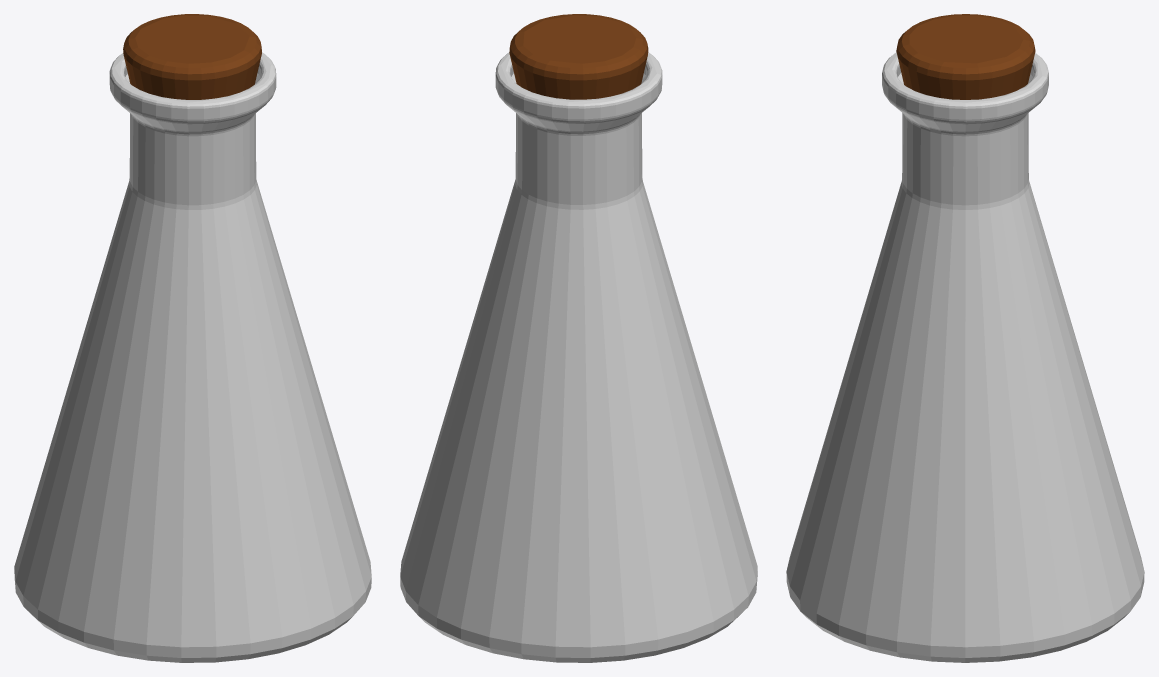
Rendered from mavi_sise_finito.fbx.
The picture shows the model from 3 angles, left to right: view 1: azimuth 30°, elevation 25°; view 2: azimuth 150°, elevation 25°; view 3: azimuth 270°, elevation 25°; orthographic projection.
Parts seen in each view (by area): view 1: mavi_sise_cam, mavi_sise_kapak; view 2: mavi_sise_cam, mavi_sise_kapak; view 3: mavi_sise_cam, mavi_sise_kapak.
Part boxes in pixels (x1=…): mavi_sise_cam: x1=14, y1=52, x2=371, y2=662; mavi_sise_kapak: x1=123, y1=14, x2=261, y2=99; mavi_sise_cam: x1=400, y1=52, x2=757, y2=662; mavi_sise_kapak: x1=509, y1=14, x2=648, y2=99; mavi_sise_cam: x1=786, y1=52, x2=1144, y2=662; mavi_sise_kapak: x1=896, y1=14, x2=1035, y2=99.
Size of the model in its own units: 0.2774 by 0.4733 by 0.2774.
